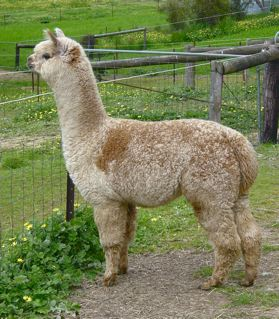alpaca: (26, 25, 260, 288)
